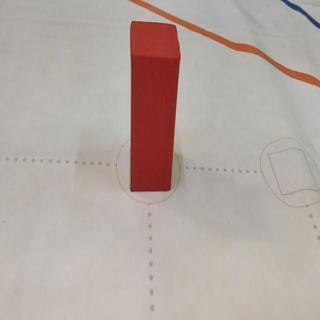redbox: (129, 19, 182, 192)
